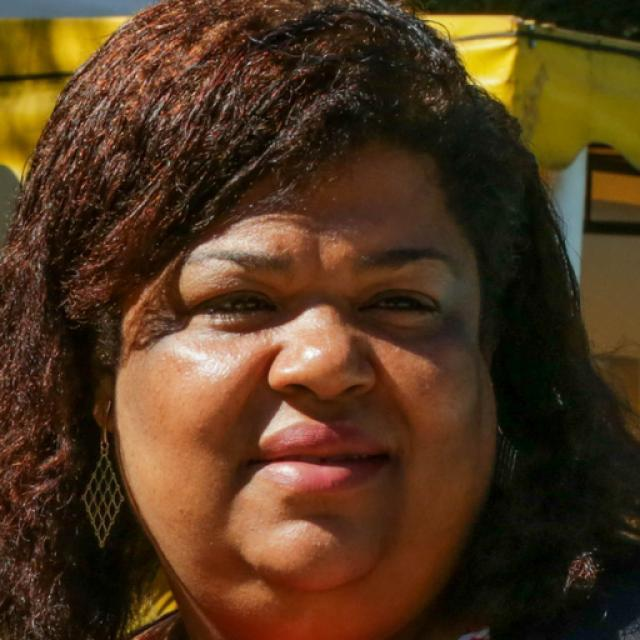disgust: (116, 130, 498, 640)
